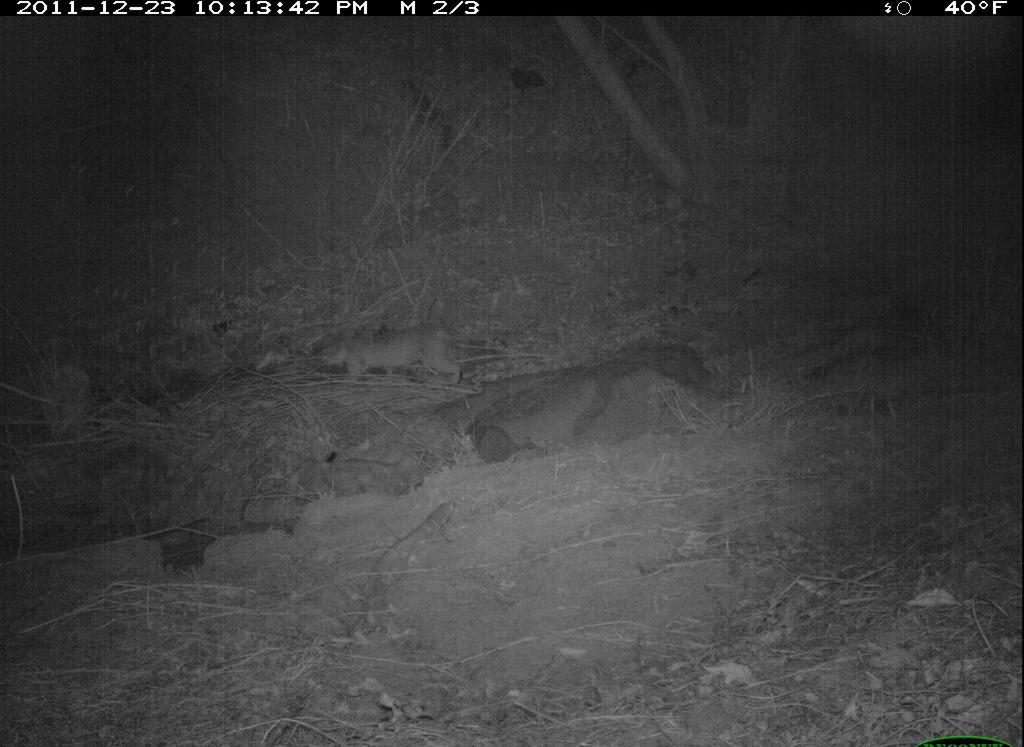bobcat: (314, 318, 484, 393)
